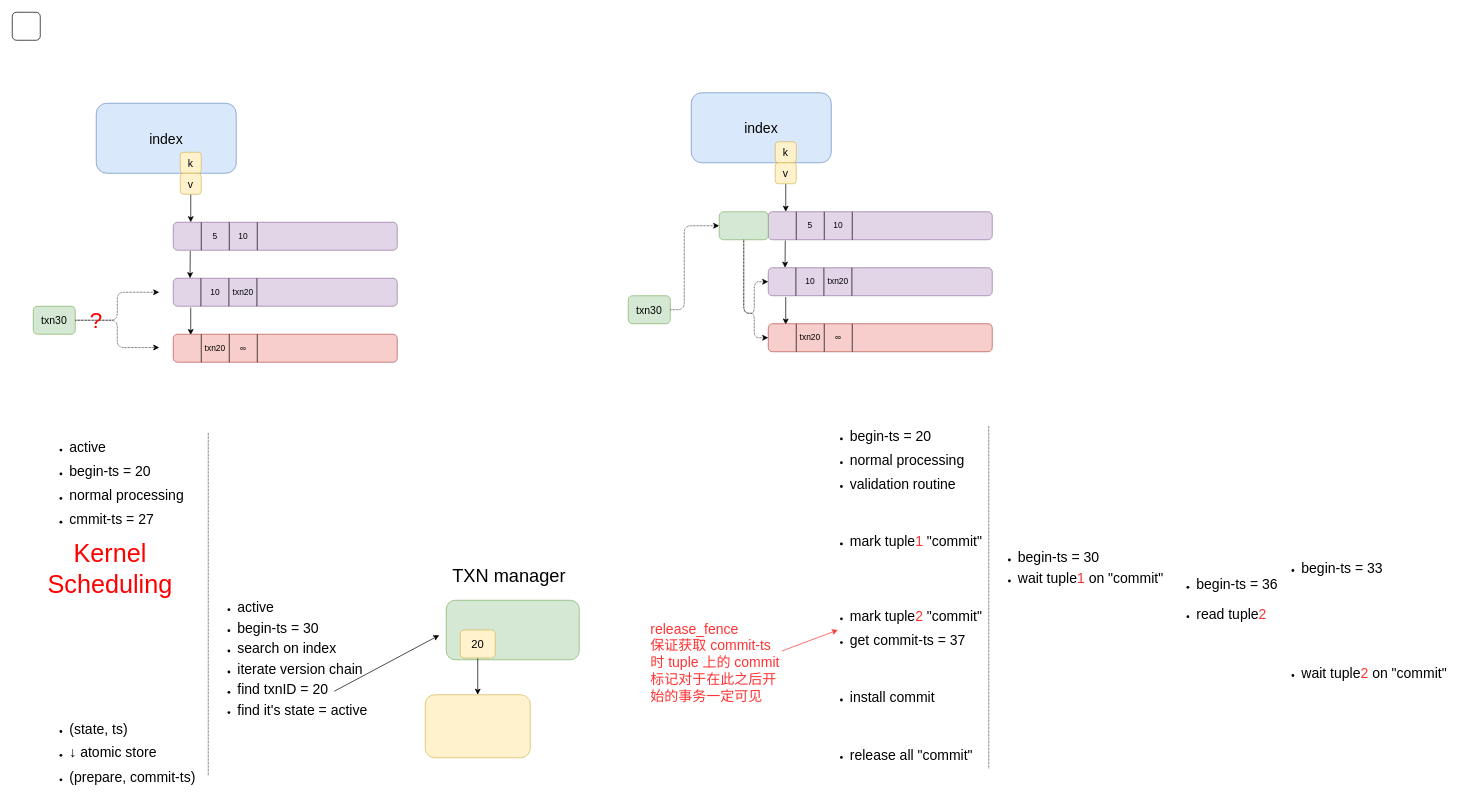
Some shapes in this 1467 by 811 pixel diagram are drawn without their labels. Here are the shapes that lost their labels. From the top down, the box of each, then its label:
(719, 211, 768, 240): commit
(425, 694, 530, 758): state = active commit-ts = null
